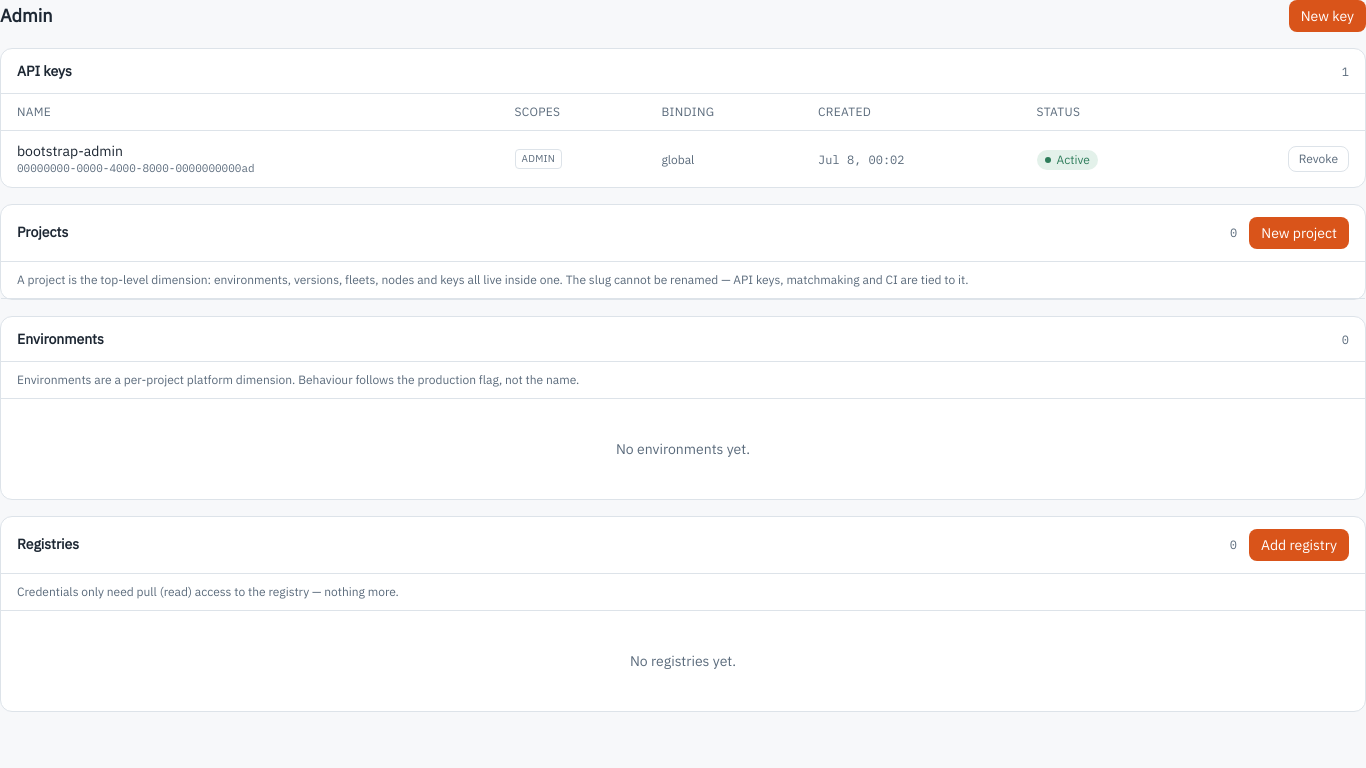
it: Access — отзыв: 409 last_admin_key человекочитаемо › DELETE 409 → показывает локализованную ошибку, ключ не пропадает
Expected: the text "bootstrap-admin" is shown, x1=17 y1=142 x2=123 y2=160
Step 1. Click the button "Revoke" → point(1318, 159), box x1=1288 y1=146 x2=1349 y2=172
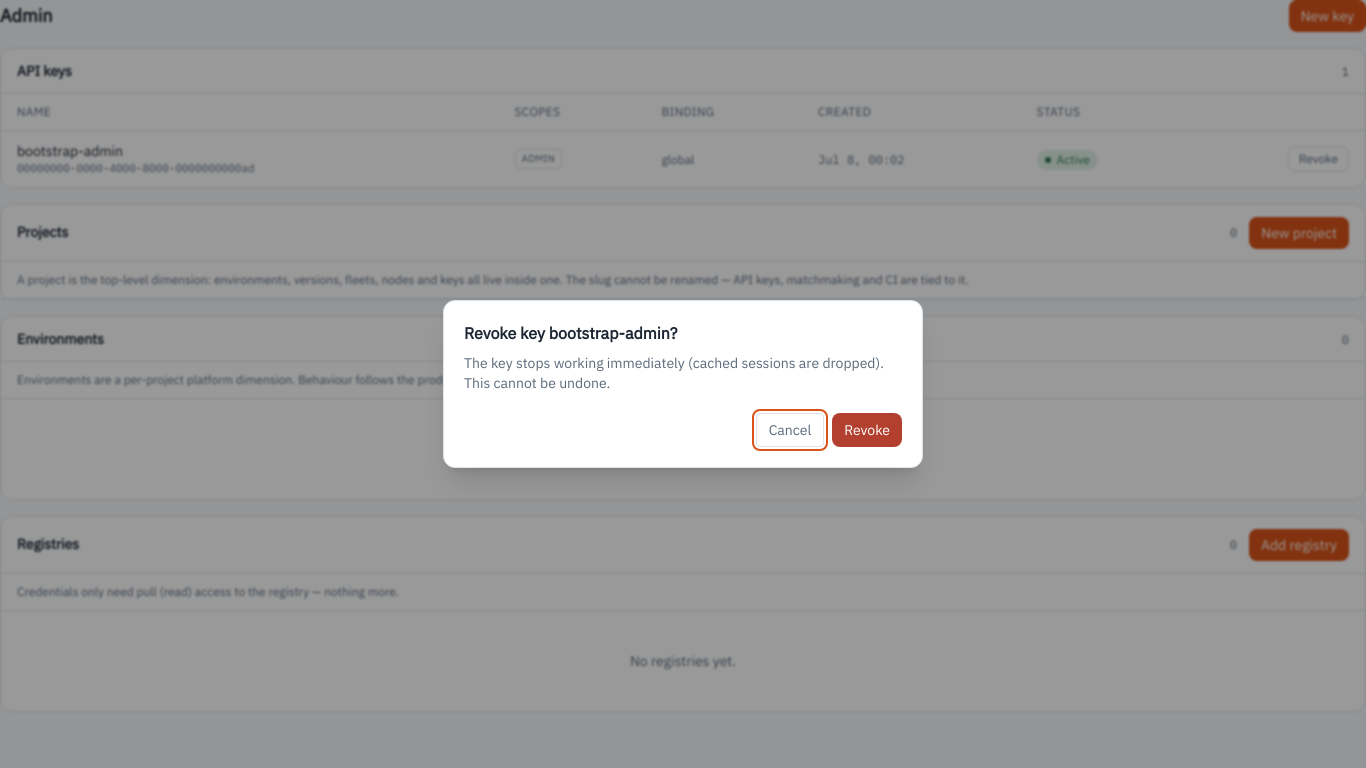
Step 2. Click the button "Revoke" → point(867, 430), box x1=832 y1=413 x2=902 y2=447
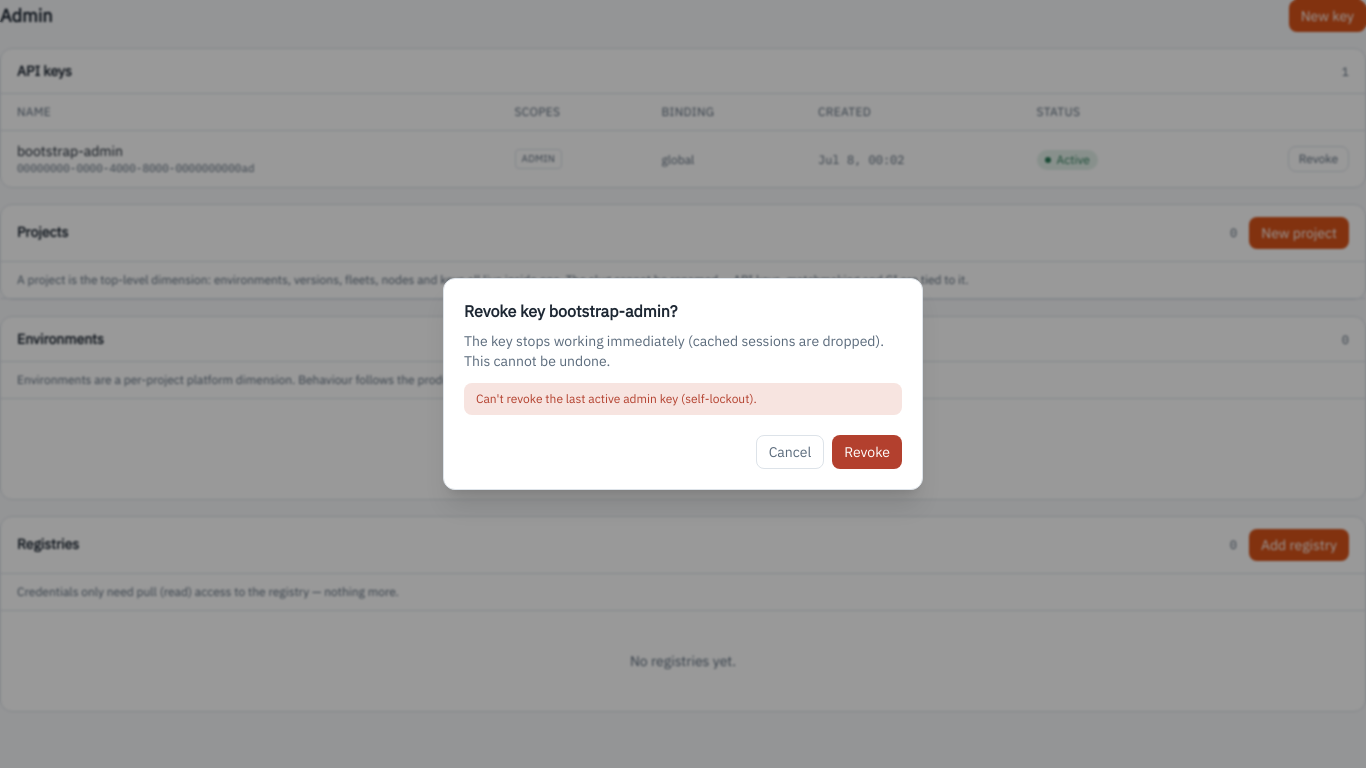
Result: the text "Can't revoke the last active admin key (self-lockout)." is shown at x1=464 y1=383 x2=902 y2=415
